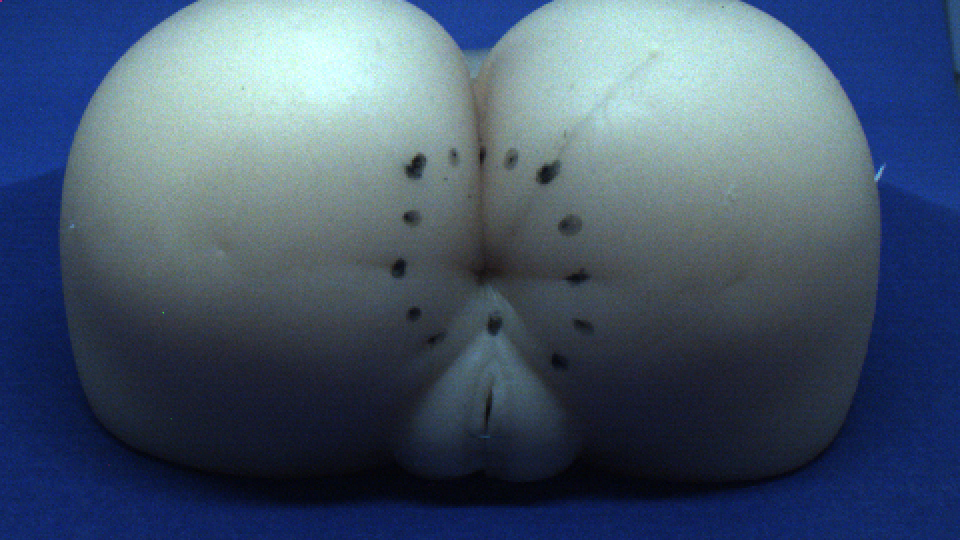asarp_marker: (484, 307, 509, 341), (404, 150, 430, 182), (556, 213, 584, 241), (534, 163, 562, 187), (565, 265, 593, 289), (571, 313, 599, 337), (401, 206, 427, 231), (402, 303, 427, 324), (501, 148, 521, 173), (428, 328, 453, 347), (391, 258, 409, 282), (549, 352, 573, 369), (447, 146, 462, 169)
